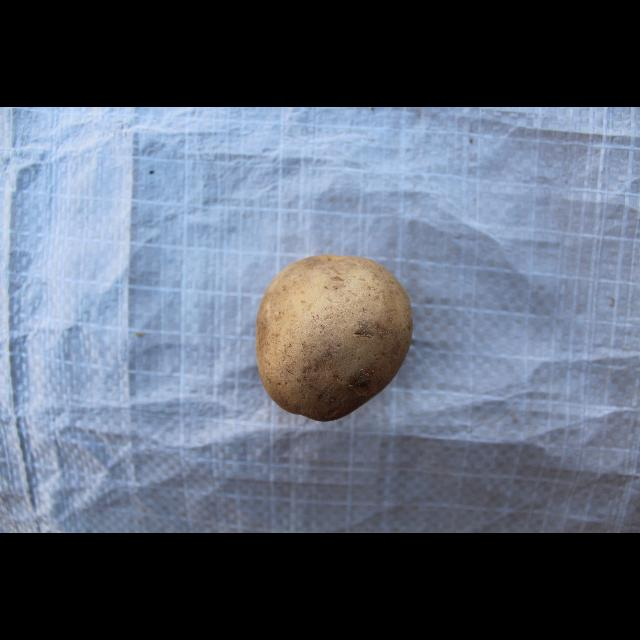Diseased-fungal potato: (249, 248, 415, 418)
